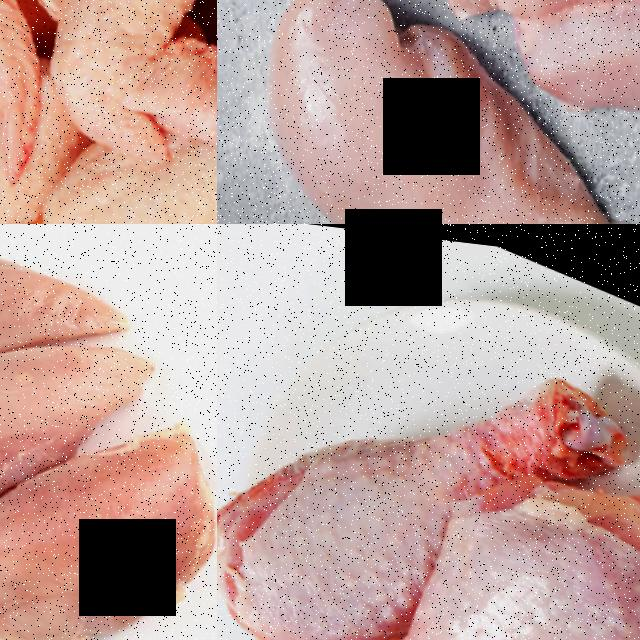chicken breast: (217, 0, 610, 224), (0, 404, 217, 640), (407, 0, 640, 161)
chicken thigh: (217, 263, 578, 640), (324, 410, 640, 640)
chicken wing: (19, 0, 217, 168), (8, 80, 217, 224), (0, 45, 75, 224)
